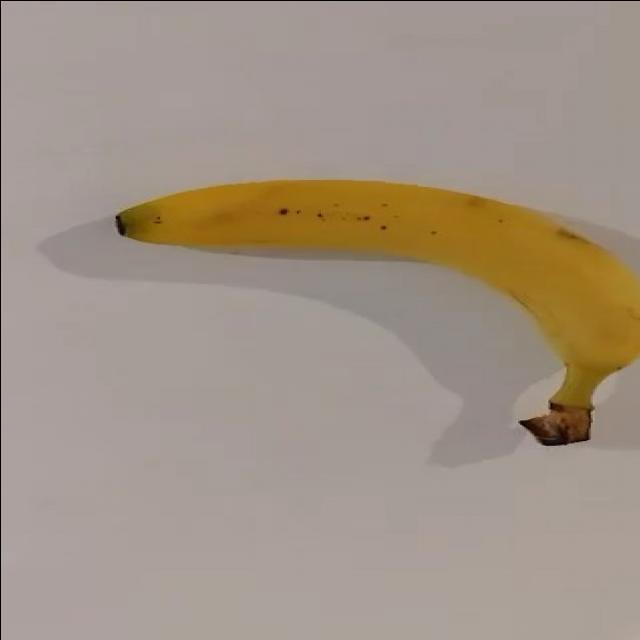Banana: (114, 177, 639, 446)
